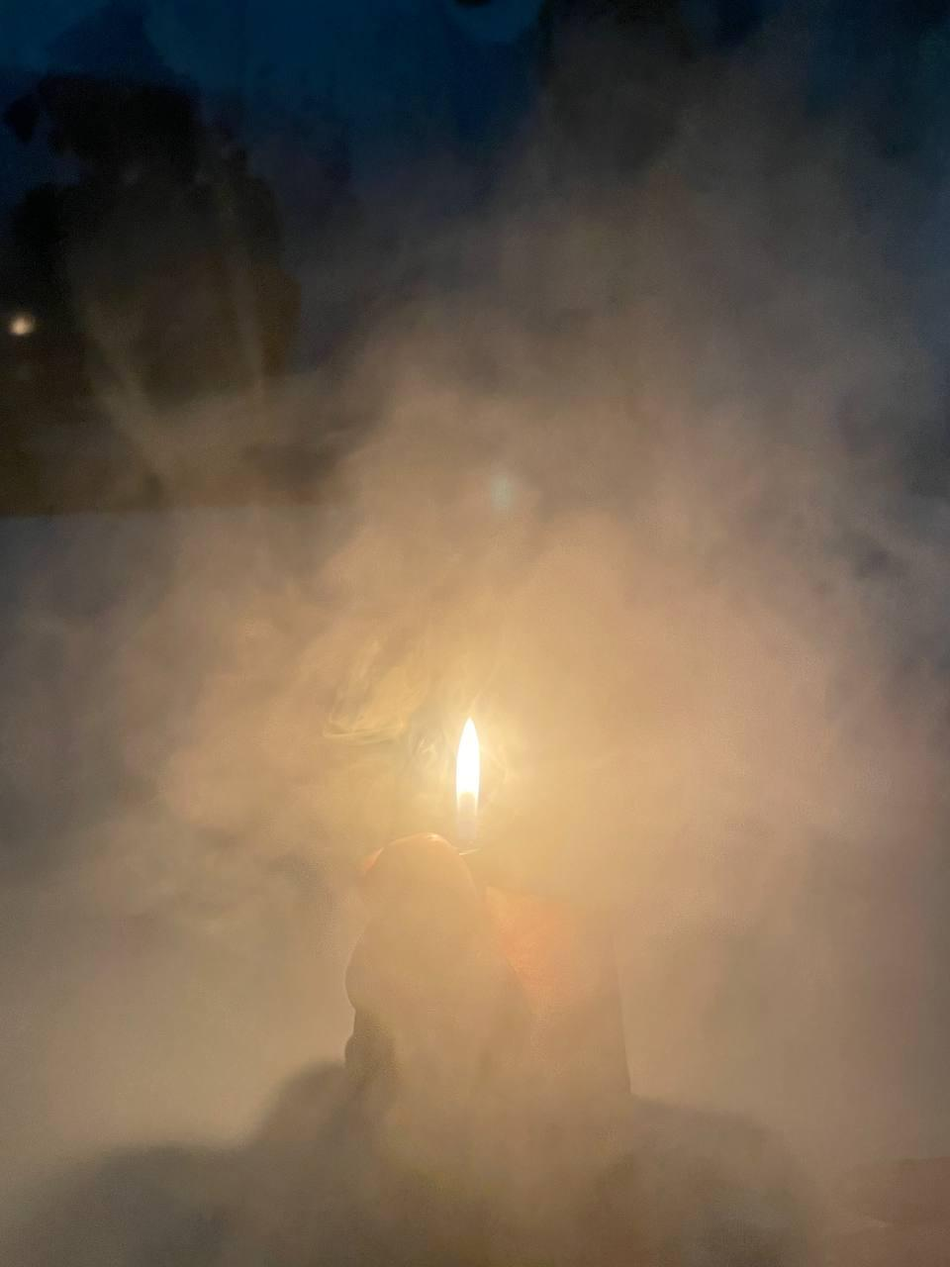fire: (436, 690, 500, 826)
smoke: (0, 0, 950, 1267)
